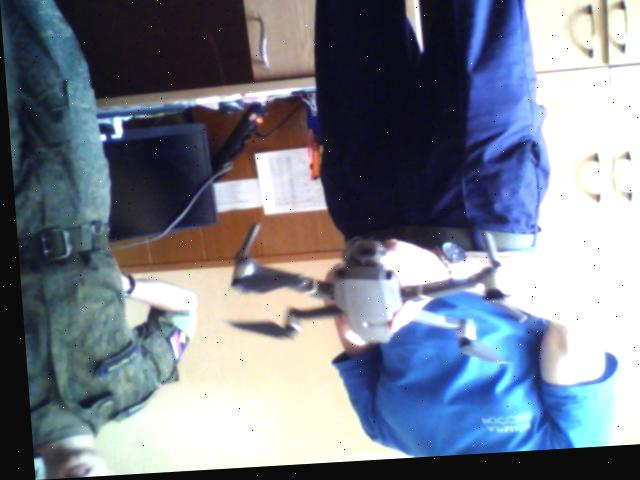drone: (218, 209, 529, 384)
